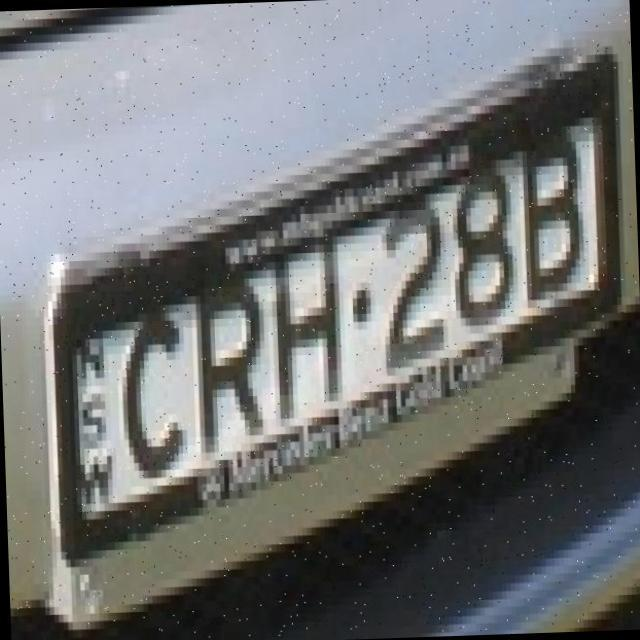License Plate: (16, 23, 640, 563)
